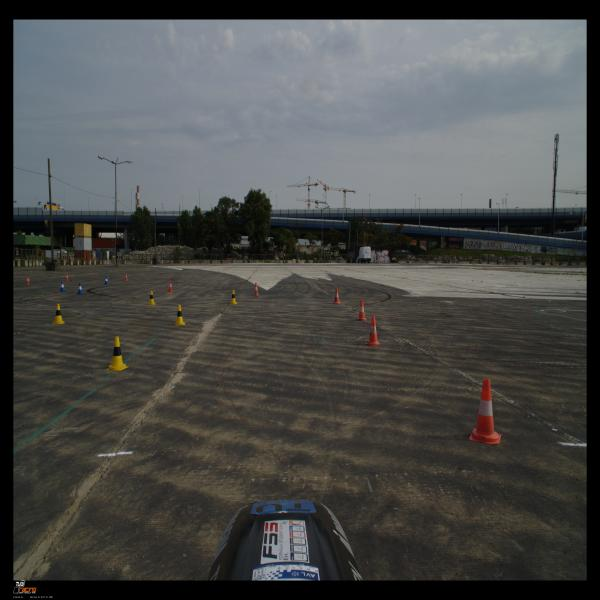blue_cone: (76, 283, 85, 294), (60, 281, 66, 292), (104, 276, 109, 284)
orange_cone: (469, 378, 501, 444), (366, 316, 380, 346), (52, 304, 65, 324), (357, 299, 367, 321), (332, 288, 341, 304), (252, 282, 260, 296), (166, 280, 174, 292), (124, 272, 129, 280), (26, 275, 30, 285), (65, 273, 69, 281)
yellow_cone: (106, 336, 128, 371), (174, 305, 186, 326), (147, 290, 156, 305), (229, 290, 238, 304)
